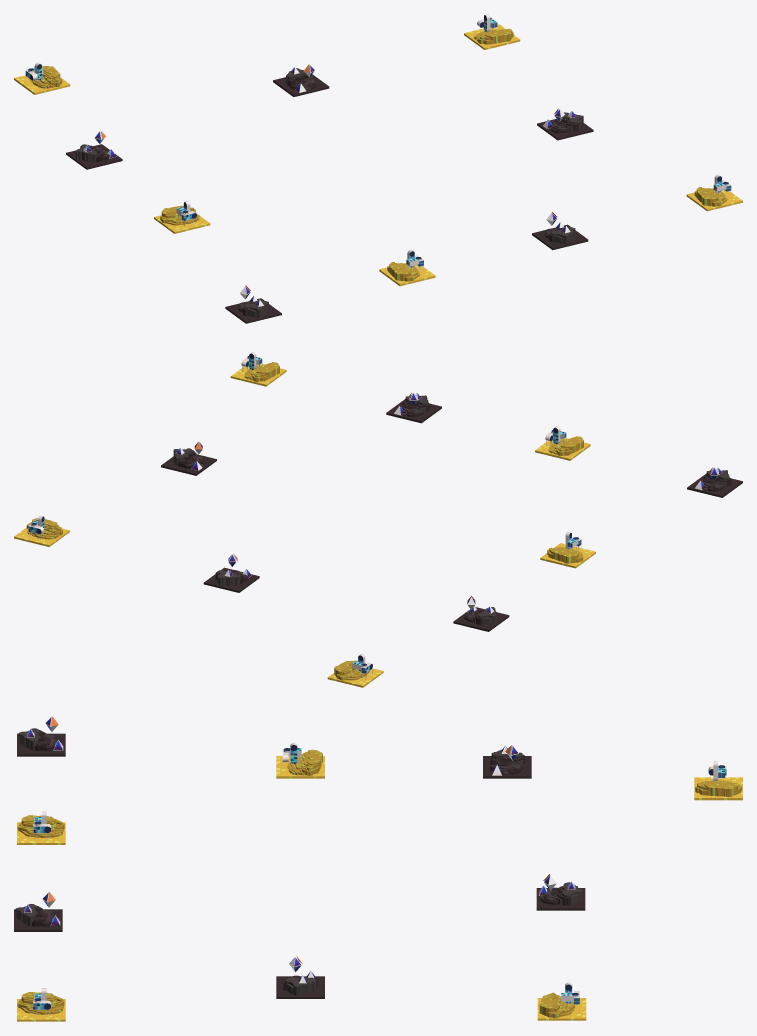
The model's file is D9_Wildcard_Part_4.fbx.
3 views of the same model, one above another, from view 1: azimuth 30°, elevation 25°; view 2: azimuth 150°, elevation 25°; view 3: azimuth 270°, elevation 25° (orthographic). The views are drawn at different scales.
Parts seen in each view (by area): view 1: Cube.405, Cube.406, Cube.404, Cube.403, Cube.407, Cube.410, Cube.411, Cube.412, Cube.409, Cube.408; view 2: Cube.403, Cube.404, Cube.406, Cube.407, Cube.405, Cube.410, Cube.409, Cube.408, Cube.412, Cube.411; view 3: Cube.407, Cube.405, Cube.406, Cube.404, Cube.408, Cube.403, Cube.411, Cube.412, Cube.409, Cube.410.
Part boxes in pixels (x1,y1,x2,y2): Cube.405: [464, 14, 520, 49]; Cube.406: [14, 62, 70, 94]; Cube.404: [686, 174, 742, 211]; Cube.403: [379, 249, 435, 286]; Cube.407: [154, 201, 210, 233]; Cube.410: [537, 108, 593, 140]; Cube.411: [273, 64, 329, 96]; Cube.412: [66, 131, 122, 169]; Cube.409: [532, 212, 588, 250]; Cube.408: [225, 285, 281, 323]; Cube.403: [535, 426, 590, 460]; Cube.404: [230, 352, 286, 386]; Cube.406: [327, 654, 383, 687]; Cube.407: [540, 531, 595, 568]; Cube.405: [14, 515, 69, 546]; Cube.410: [161, 441, 216, 475]; Cube.409: [386, 393, 441, 423]; Cube.408: [687, 467, 742, 497]; Cube.412: [453, 596, 509, 631]; Cube.411: [203, 553, 259, 592]; Cube.407: [276, 742, 324, 778]; Cube.405: [537, 982, 586, 1020]; Cube.406: [694, 761, 742, 800]; Cube.404: [17, 988, 65, 1021]; Cube.408: [17, 716, 65, 756]; Cube.403: [17, 811, 65, 844]; Cube.411: [536, 874, 585, 910]; Cube.412: [483, 745, 531, 778]; Cube.409: [14, 892, 62, 931]; Cube.410: [276, 956, 324, 998].
Size of the model in its own units: 55540 by 2580 by 59866.
8 materials, 8 textured.
